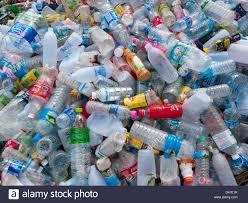Plastic bottle: (1, 1, 248, 203)
